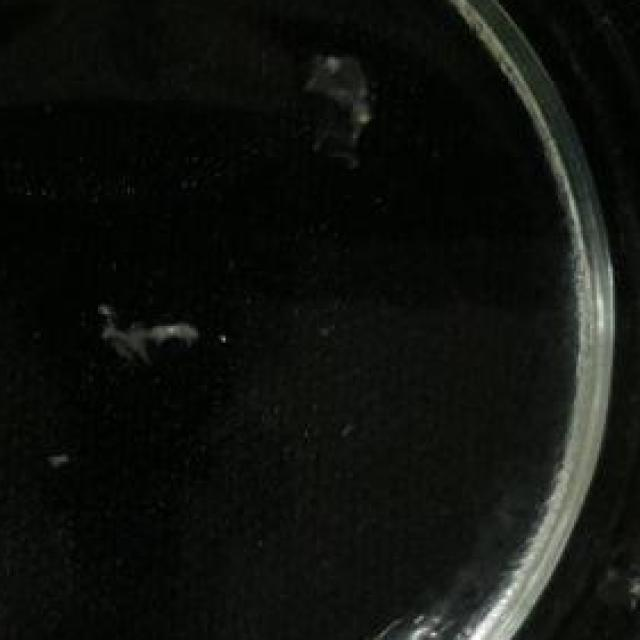Microplastic: (316, 14, 401, 148), (100, 312, 226, 366), (599, 500, 640, 616)
